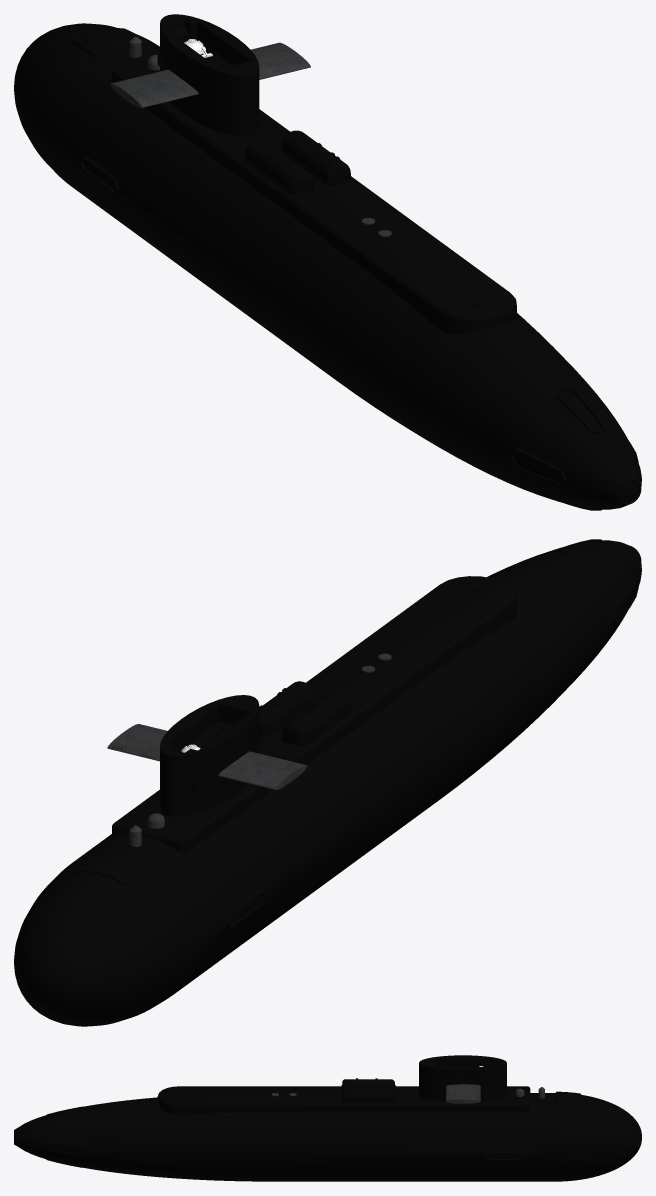
The model's file is submarine.glb.
3 views of the same model, one above another, from view 1: azimuth 30°, elevation 25°; view 2: azimuth 150°, elevation 25°; view 3: azimuth 270°, elevation 25° (orthographic). The views are drawn at different scales.
Visible parts, largest first — view 1: Cylinder.004, Cube_Material_0, Cylinder.003, Cylinder.012, Cylinder.013, Cylinder.011, Cylinder.010; view 2: Cylinder.004, Cube_Material_0, Cylinder.003, Cylinder.012, Cylinder.011, Cylinder.013, Cylinder.010; view 3: Cylinder.004, Cube_Material_0, Cylinder.003, Cylinder.013, Cylinder.010, Cylinder.012.
Boxes of the visible parts, x1=… form: Cylinder.004: x1=14, y1=23, x2=641, y2=510; Cube_Material_0: x1=112, y1=61, x2=516, y2=333; Cylinder.003: x1=157, y1=14, x2=259, y2=136; Cylinder.012: x1=243, y1=139, x2=315, y2=194; Cylinder.013: x1=280, y1=130, x2=352, y2=185; Cylinder.011: x1=110, y1=69, x2=198, y2=108; Cylinder.010: x1=251, y1=42, x2=310, y2=79; Cylinder.004: x1=14, y1=539, x2=641, y2=1026; Cube_Material_0: x1=112, y1=576, x2=516, y2=854; Cylinder.003: x1=160, y1=695, x2=259, y2=816; Cylinder.012: x1=281, y1=690, x2=352, y2=745; Cylinder.011: x1=218, y1=751, x2=307, y2=789; Cylinder.013: x1=259, y1=681, x2=315, y2=736; Cylinder.010: x1=107, y1=724, x2=167, y2=761; Cylinder.004: x1=14, y1=1091, x2=641, y2=1181; Cube_Material_0: x1=157, y1=1086, x2=530, y2=1115; Cylinder.003: x1=419, y1=1055, x2=506, y2=1101; Cylinder.013: x1=341, y1=1088, x2=395, y2=1102; Cylinder.010: x1=446, y1=1084, x2=480, y2=1103; Cylinder.012: x1=341, y1=1078, x2=395, y2=1091.
Size of the model in its own units: 234 by 285 by 1414.
5 materials, 1 textured.
